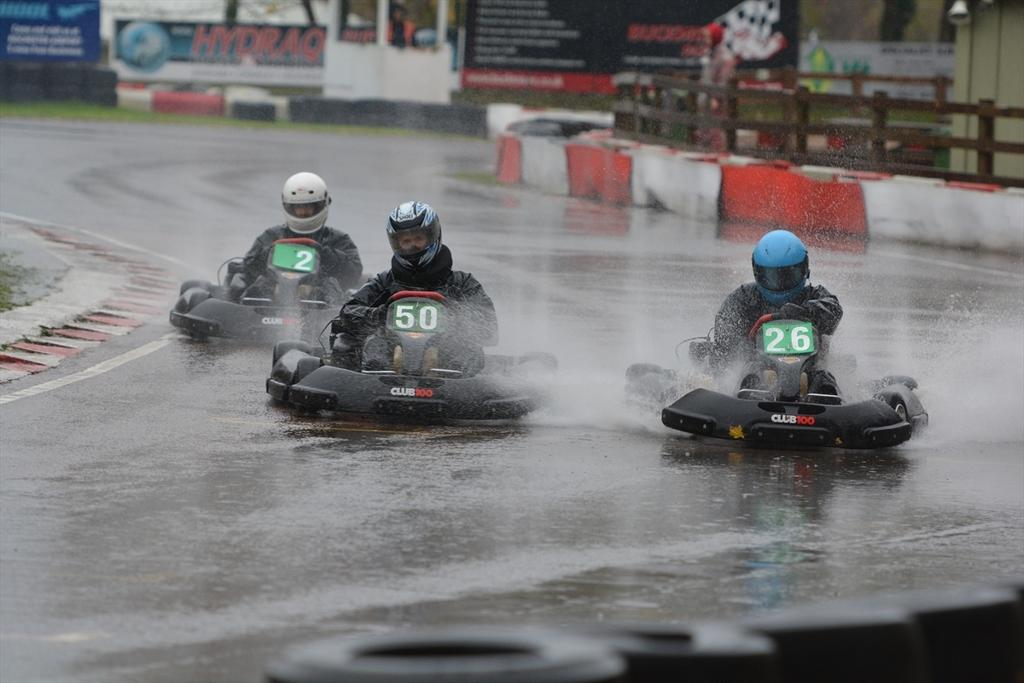helmet: (751, 229, 809, 308), (386, 200, 443, 272), (281, 171, 329, 235)
